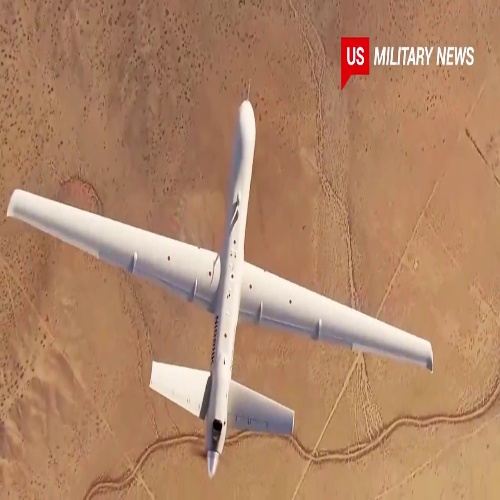uav222: (6, 97, 438, 477)
